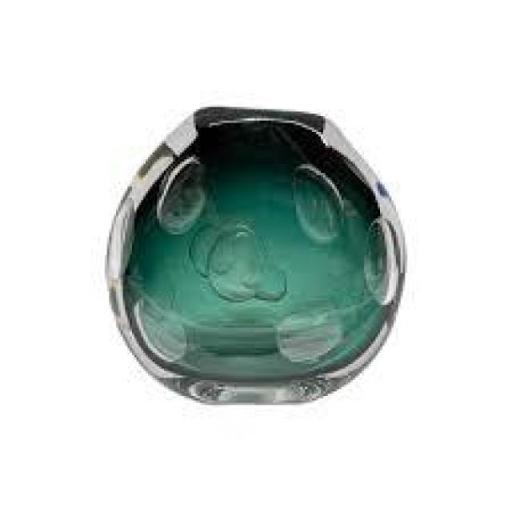glass: (92, 99, 423, 422)
